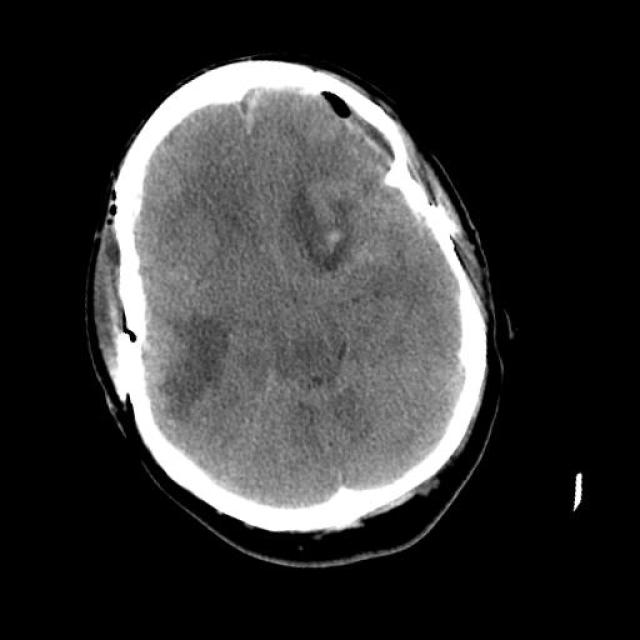Subdural: (210, 49, 422, 206)
